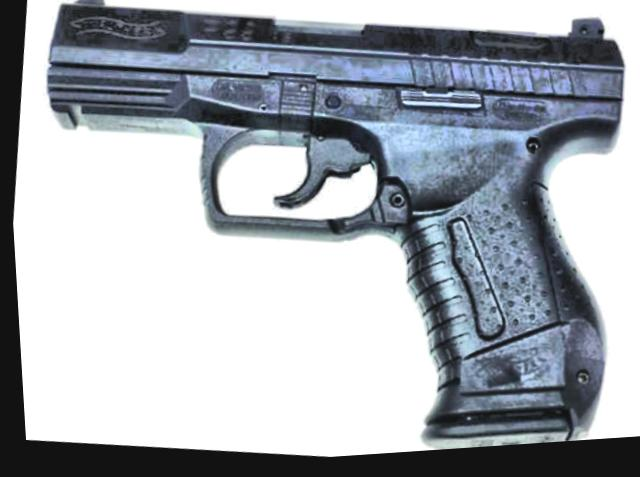pistol: (1, 0, 640, 477)
